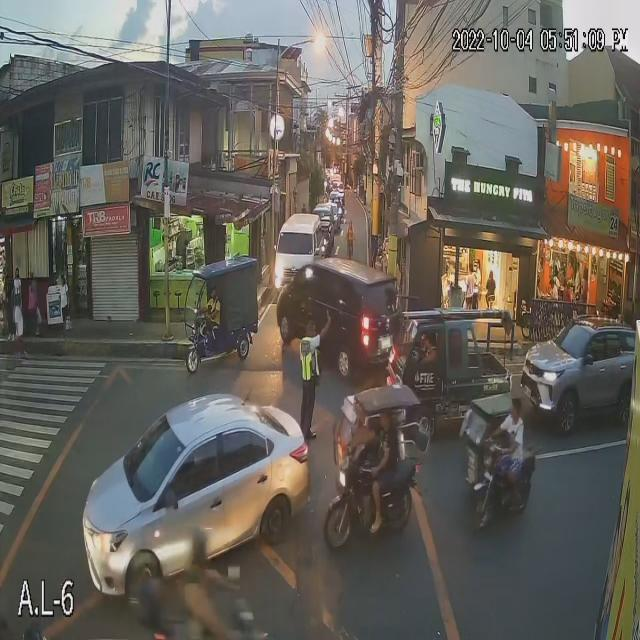helmet: (185, 534, 220, 582)
motorcycle: (148, 622, 288, 640)
rider: (178, 573, 238, 640)
